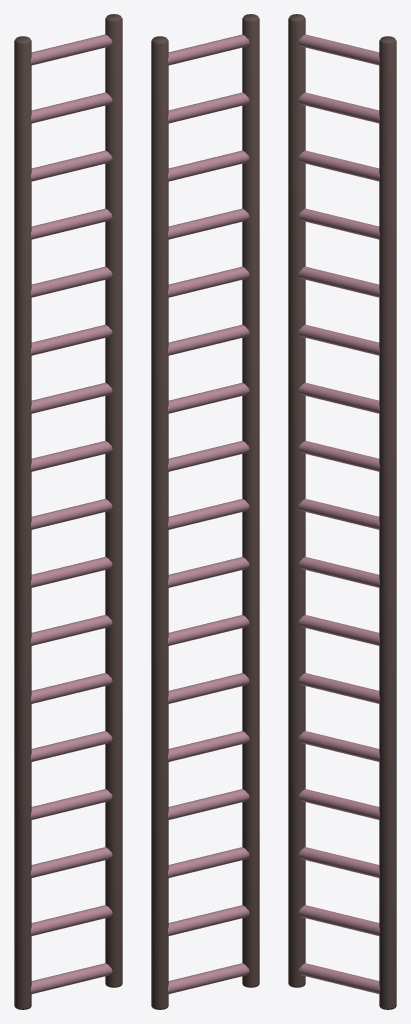
The model's file is Escalera de mano Lomnicky.fbx.
3 views of the same model, side by side, from view 1: azimuth 30°, elevation 25°; view 2: azimuth 210°, elevation 25°; view 3: azimuth 330°, elevation 25° (orthographic).
Visible parts, largest first — view 1: Cylinder.002; view 2: Cylinder.002; view 3: Cylinder.002.
Boxes of the visible parts, left/top/right/bottom form: Cylinder.002: left=14, top=14, right=122, bottom=1009; Cylinder.002: left=151, top=14, right=259, bottom=1009; Cylinder.002: left=288, top=14, right=396, bottom=1009.
Size of the model in its own units: 57.19 by 500 by 8.
